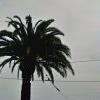Palm tree: (2, 8, 63, 100)
